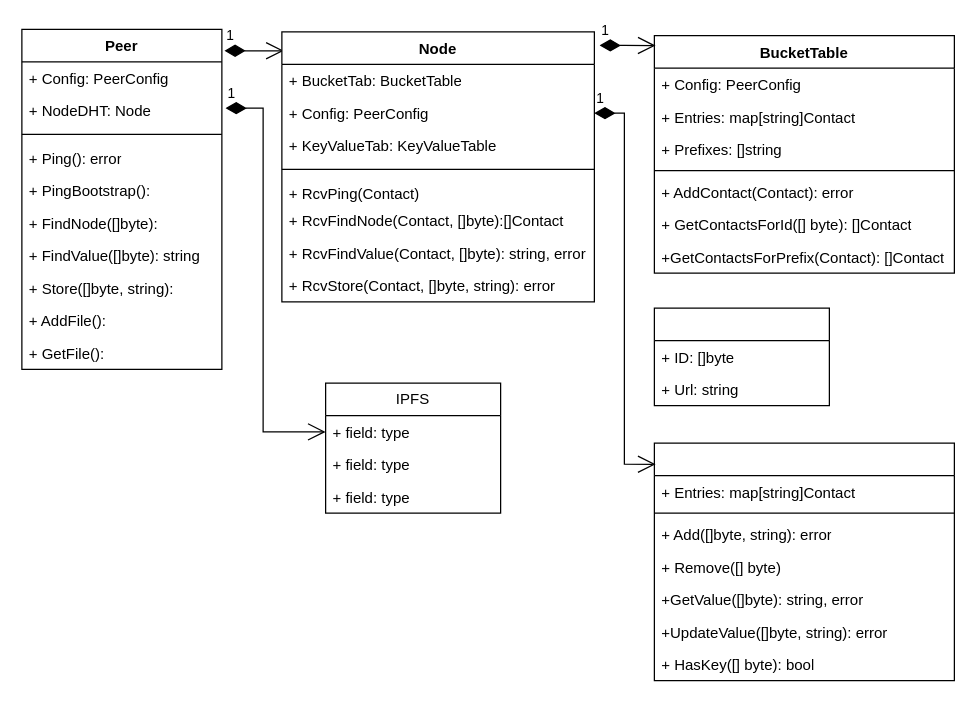
This 976x706 diagram has some shape labels left out. The box of each missing label's shape, as (x1, y1, x2, y2) in pixels:
Contact: (653, 307, 829, 406)
KeyValueTable: (653, 442, 954, 681)
